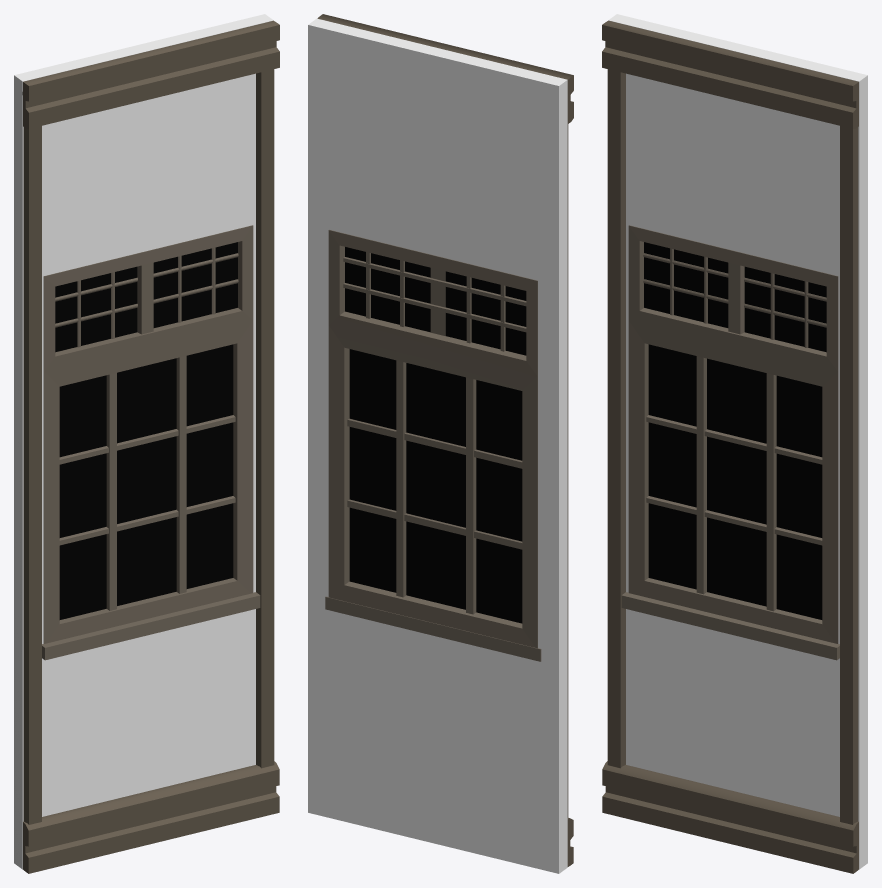
File: WINDOW_04_1.glb
3 views of the same model, side by side, from view 1: azimuth 30°, elevation 25°; view 2: azimuth 150°, elevation 25°; view 3: azimuth 330°, elevation 25° (orthographic).
Visible parts, largest first — view 1: WINDOW_04_1; view 2: WINDOW_04_1; view 3: WINDOW_04_1.
Boxes of the visible parts, x1,y1,x2,y2 form: WINDOW_04_1: [14, 14, 279, 873]; WINDOW_04_1: [308, 14, 573, 873]; WINDOW_04_1: [602, 14, 867, 873].
Size of the model in its own units: 1 by 3 by 0.1068.
1 material, 1 textured.
